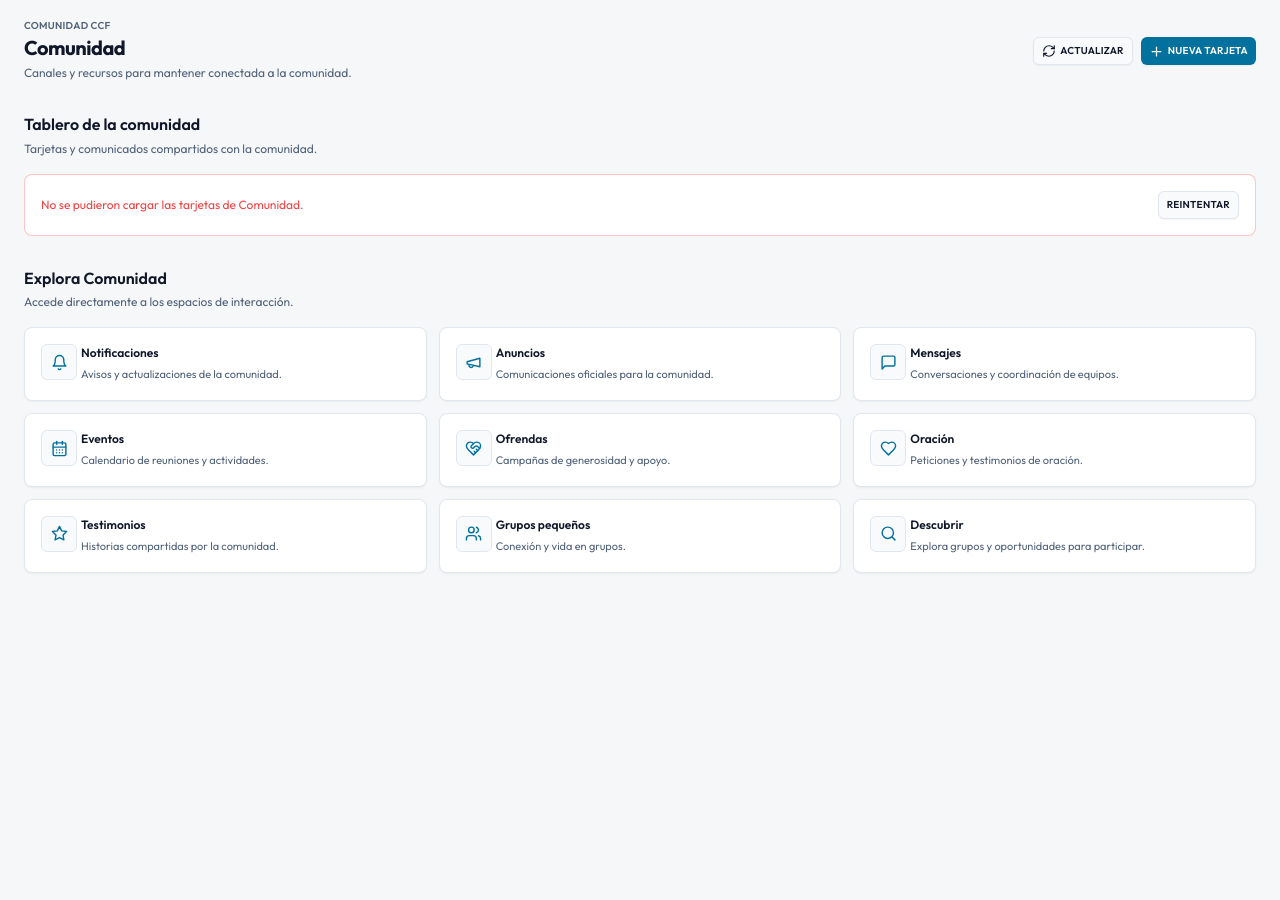
CommunityHubPage › keeps an error visible and retries the GET
This screenshot has width=1280, height=900.
Expected: the message shows "No se pudieron cargar las tarjetas", [41,197,304,212]
Click the button "Reintentar" at (1198, 205), box [1158,191,1239,219]
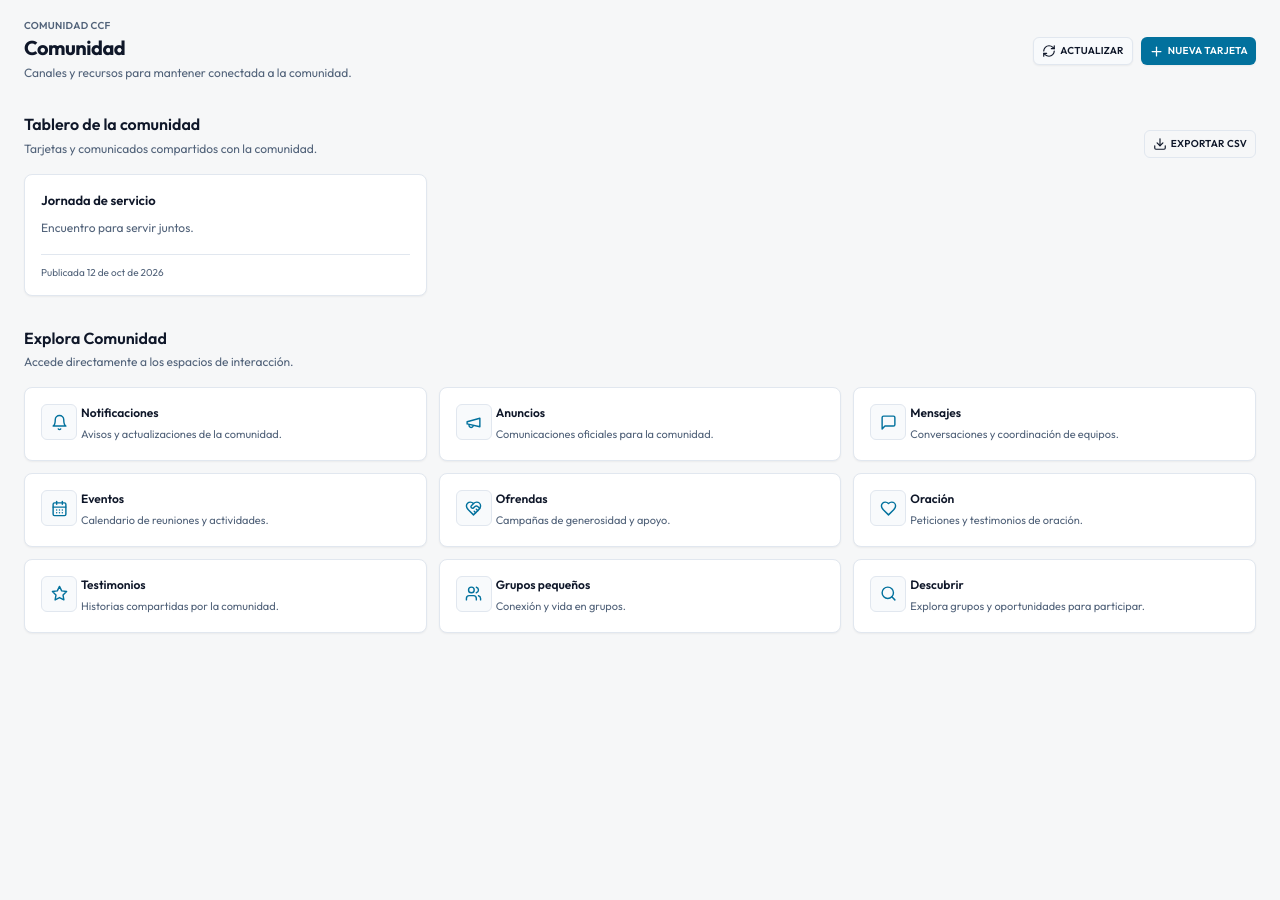
Expected: the heading "Jornada de servicio" is shown, [41,192,156,208]
